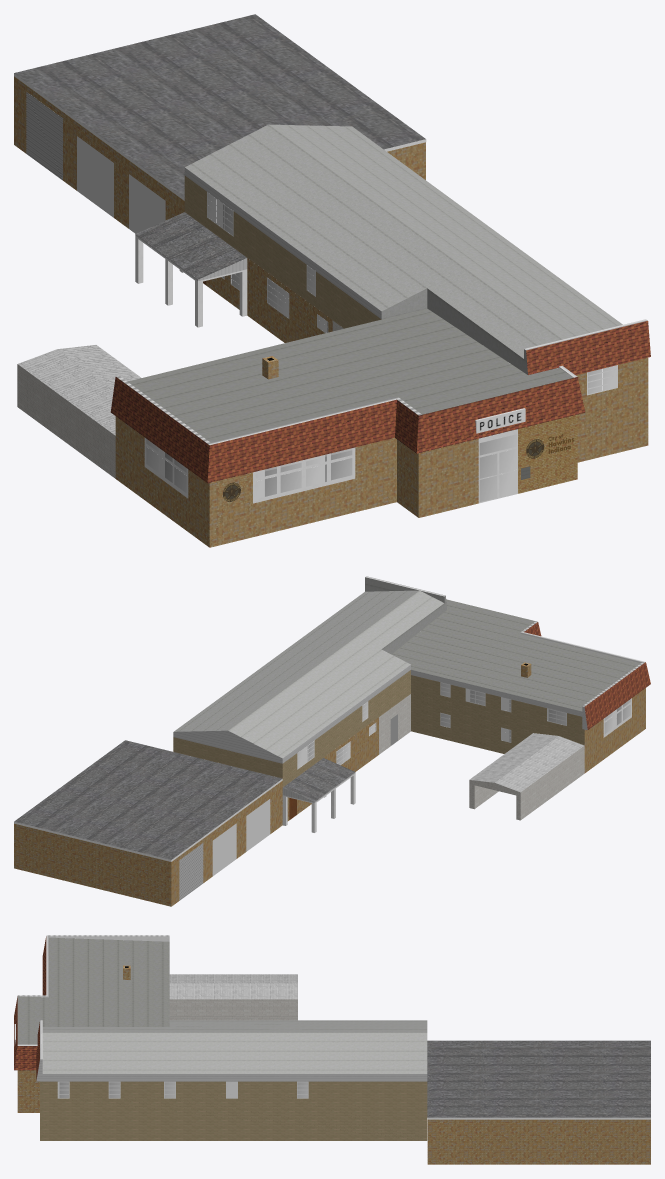
File: hawkins_police_station.glb
The picture shows the model from 3 angles, top to bottom: view 1: azimuth 30°, elevation 25°; view 2: azimuth 150°, elevation 25°; view 3: azimuth 270°, elevation 25°; orthographic projection. The views are drawn at different scales.
Parts seen in each view (by area): view 1: Material2 (×14); view 2: Material2 (×13); view 3: Material2 (×12).
Boxes of the visible parts, left/top/right/bottom form: Material2 (×14): left=14, top=14, right=650, bottom=547; Material2 (×13): left=14, top=576, right=650, bottom=906; Material2 (×12): left=14, top=935, right=650, bottom=1164.
Bounding box in the file's own units: 1024 × 238 × 1683.
21 materials, 17 textured.
